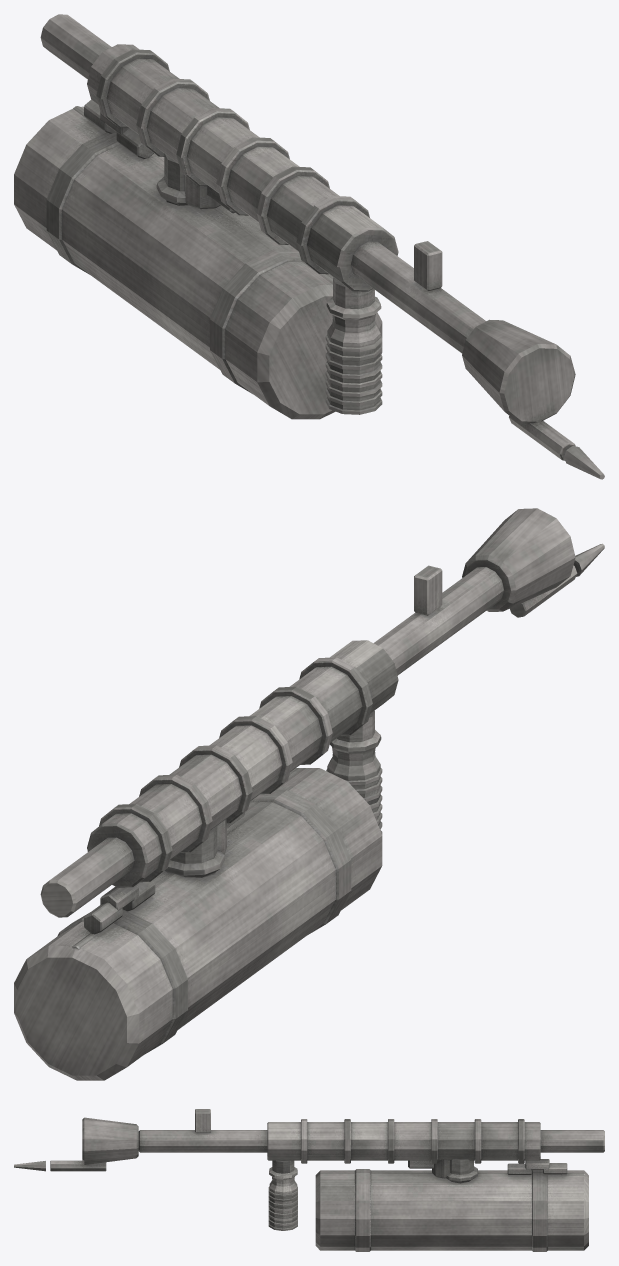
The model's file is flamethrower.glb.
3 views of the same model, one above another, from view 1: azimuth 30°, elevation 25°; view 2: azimuth 150°, elevation 25°; view 3: azimuth 270°, elevation 25° (orthographic). The views are drawn at different scales.
Parts seen in each view (by area): view 1: flamethrower; view 2: flamethrower; view 3: flamethrower.
Boxes of the visible parts, box(x1,y1,x2,y2) form: flamethrower: box(14, 14, 604, 479); flamethrower: box(14, 508, 604, 1080); flamethrower: box(14, 1109, 604, 1251).
Bounding box in the file's own units: 0.0803 × 0.1508 × 0.588.
Materials: 1 (1 with a texture image).
